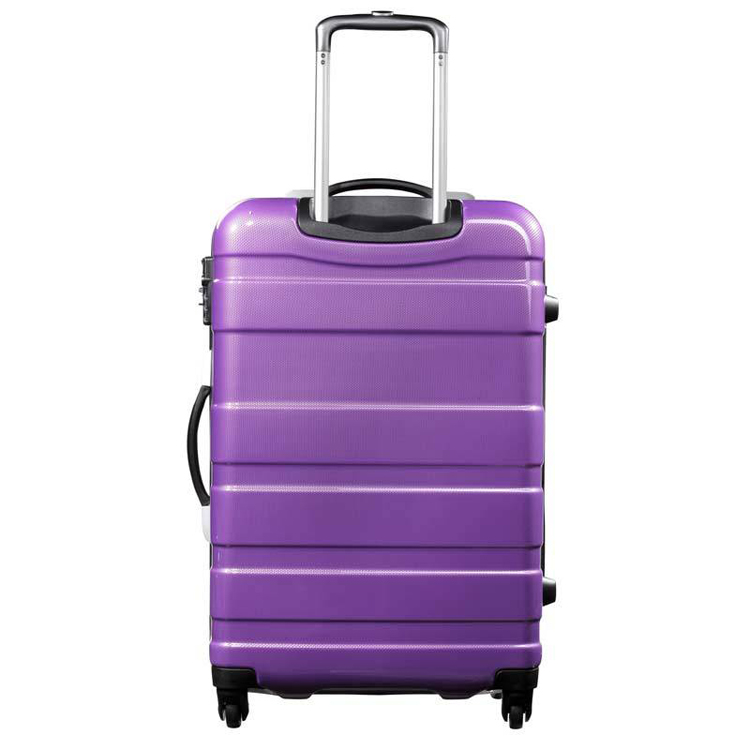luggage: (188, 10, 559, 733)
